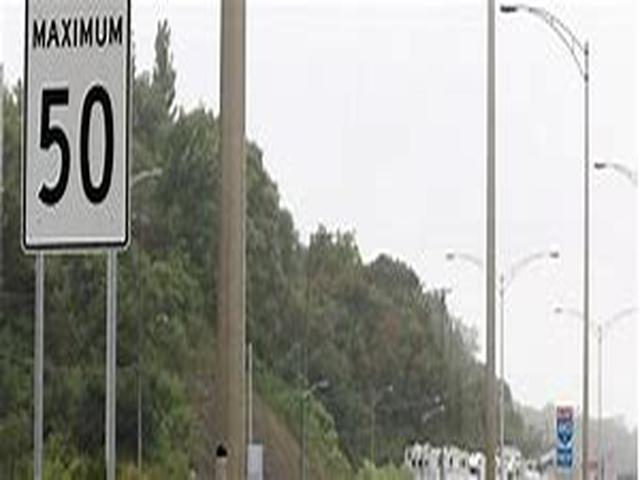vitesse: (21, 3, 131, 252)
